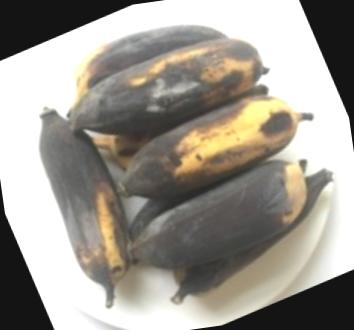Banana Overripe: (5, 10, 354, 314)
